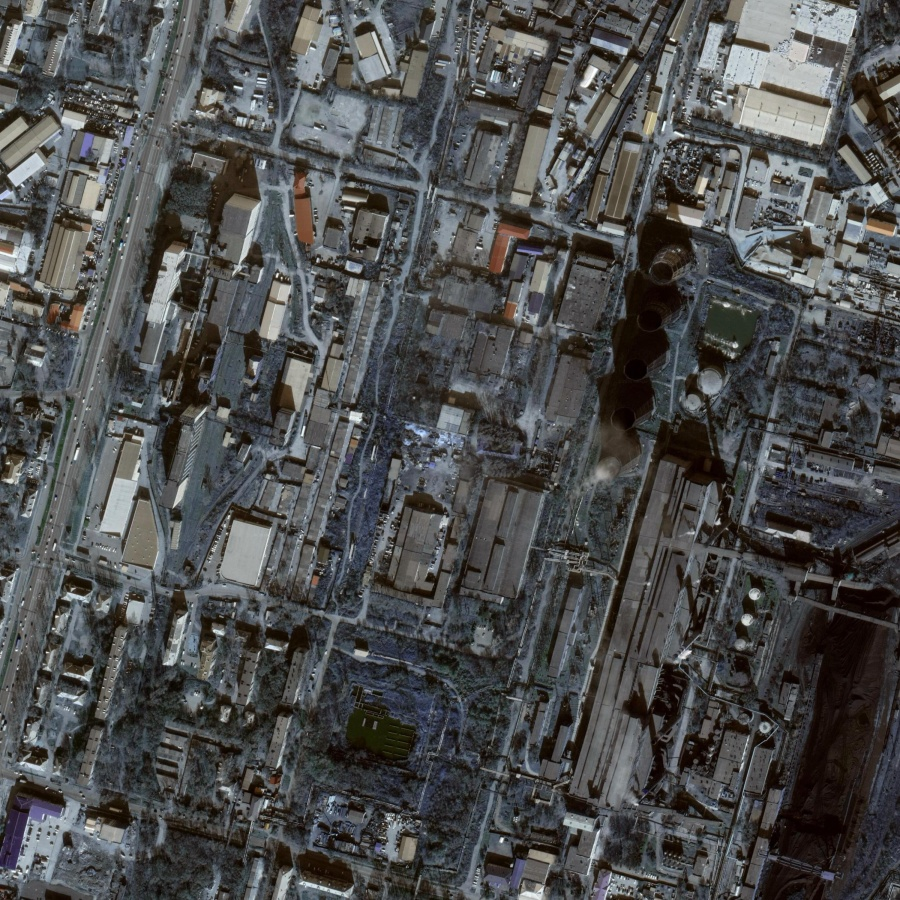PowerPlant: (565, 196, 735, 535)
